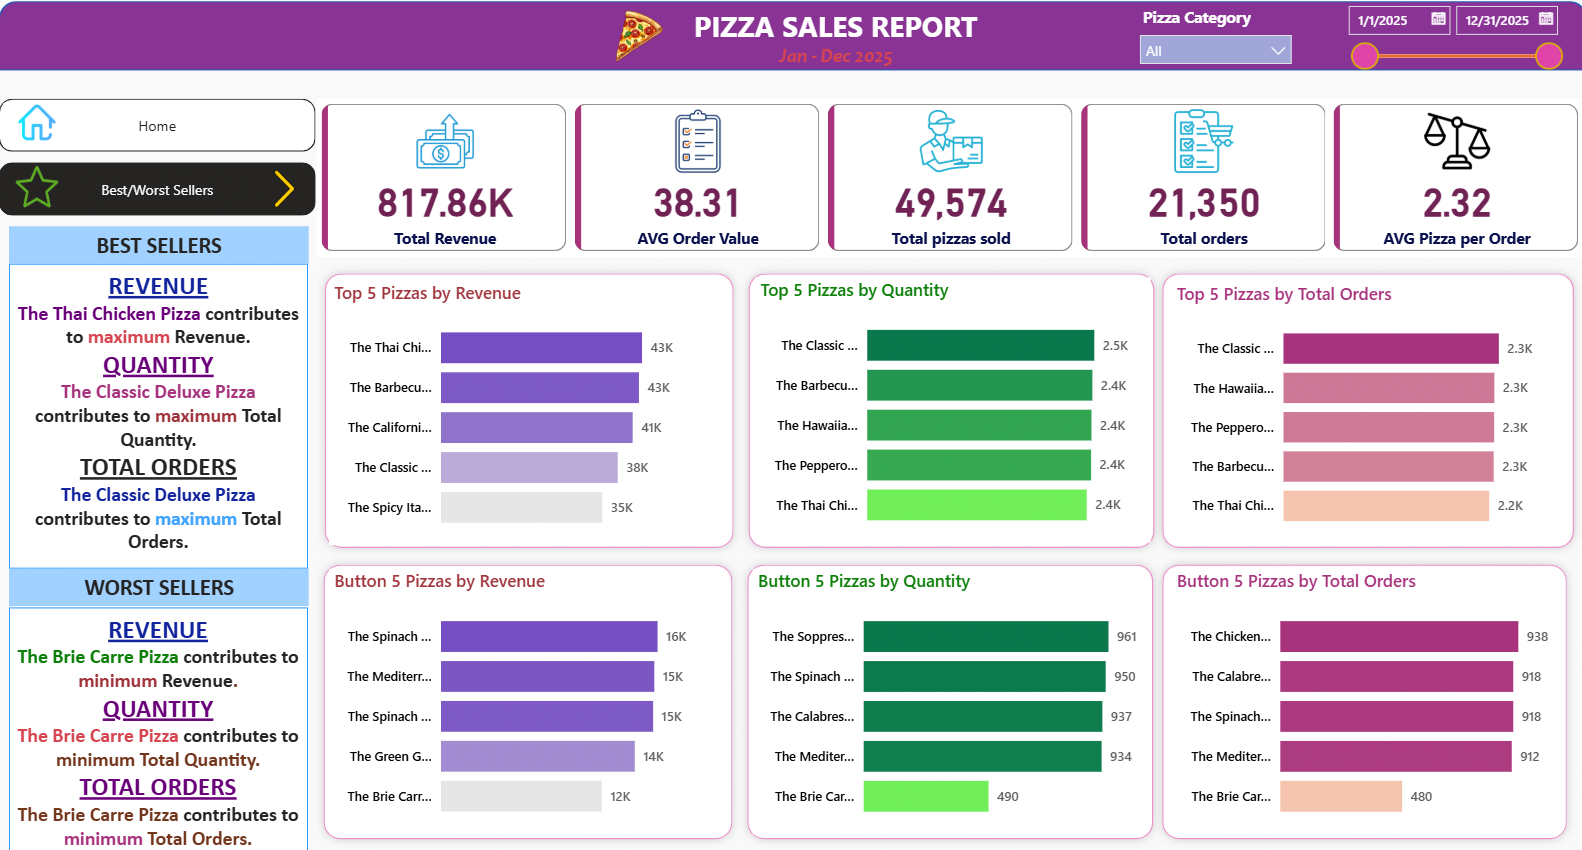

The dashboard page shown, as its layout file describes it:
{"tool":"powerbi","page":{"name":"Best/Worst Sellers","canvas":[1500,820],"ordinal":1},"visuals":[{"type":"cardVisual","fields":{"Data":["Measures_Created.Total Revenue","Measures_Created.AVG Order Value","Measures_Created.Total pizzas sold","Measures_Created.Total orders","Measures_Created.AVG Pizza per Order"]},"box":[299.8,98.1,1200.5,149.9],"z":0},{"type":"shape","box":[0,5.5,1500.3,65.4],"z":1000},{"type":"textbox","box":[642.5,6.2,296.2,77.5],"z":2000},{"type":"image","box":[565,6.2,77.5,67.5],"z":3000},{"type":"shape","box":[299.8,254.8,402,275.3],"z":4000},{"type":"textbox","box":[9.5,218.1,283.4,35.4],"z":14000},{"type":"textbox","box":[9.5,254.2,282.6,288.3],"z":15000},{"type":"textbox","box":[9.5,542.5,283.4,35.4],"z":16000},{"type":"textbox","box":[9.5,579.1,282.1,239.8],"z":17000},{"type":"slicer","fields":{"Values":["pizza_sales_f.pizza_category"]},"box":[1067,5.5,163.5,62.7],"z":18000},{"type":"slicer","fields":{"Values":["pizza_sales_f.order_date"]},"box":[1261.8,0,223.5,79],"z":19000},{"type":"shape","box":[700.4,254.8,399.3,275.3],"z":19001},{"type":"shape","box":[1091.5,254.8,404.7,275.3],"z":19002},{"type":"shape","box":[298.9,529.7,402,275.3],"z":19003},{"type":"shape","box":[699.5,529.7,399.3,275.3],"z":19004},{"type":"shape","box":[1091.5,530.1,397.9,275.3],"z":19005},{"type":"barChart","title":"Top 5 Pizzas by Revenue","fields":{"Category":["pizza_sales_f.pizza_name"],"Y":["Measures_Created.Total Revenue"]},"box":[312,269.8,373.4,250.7],"z":19006},{"type":"barChart","title":"Button 5 Pizzas by Revenue","fields":{"Category":["pizza_sales_f.pizza_name"],"Y":["Measures_Created.Total Revenue"]},"box":[312,542.3,373.4,250.7],"z":19007},{"type":"barChart","title":"Top 5 Pizzas by Quantity","fields":{"Category":["pizza_sales_f.pizza_name"],"Y":["Measures_Created.Total pizzas sold"]},"box":[714,266.9,373.4,250.7],"z":19008},{"type":"barChart","title":"Button 5 Pizzas by Quantity","fields":{"Category":["pizza_sales_f.pizza_name"],"Y":["Measures_Created.Total pizzas sold"]},"box":[712.4,541.9,368.2,250.9],"z":19009},{"type":"barChart","title":"Top 5 Pizzas by Total Orders","fields":{"Category":["pizza_sales_f.pizza_name"],"Y":["Measures_Created.Total orders"]},"box":[1108,270.2,373.1,247.6],"z":19010},{"type":"barChart","title":"Button 5 Pizzas by Total Orders","fields":{"Category":["pizza_sales_f.pizza_name"],"Y":["Measures_Created.Total orders"]},"box":[1108,541.9,361.8,250.9],"z":19011},{"type":"pageNavigator","box":[0,98.1,299.8,50.4],"z":19012},{"type":"pageNavigator","box":[0,158.1,299.8,50.4],"z":19013},{"type":"image","box":[239.8,160.8,60,45],"z":19014},{"type":"image","box":[9.5,98.1,53.1,45],"z":19015},{"type":"image","box":[9.5,155.3,53.1,50.4],"z":19016}]}

Visuals, with their boxes in screenshot pixels (x1, y1, x2, y2), scaled from the page's 1500x820 canvas onto the 1582x850 screenshot:
cardVisual - Measures_Created.Total Revenue x Measures_Created.AVG Order Value: pyautogui.locateOnScreen(316, 102, 1581, 257)
shape: pyautogui.locateOnScreen(0, 6, 1581, 73)
textbox: pyautogui.locateOnScreen(678, 6, 990, 87)
image: pyautogui.locateOnScreen(596, 6, 678, 76)
shape: pyautogui.locateOnScreen(316, 264, 740, 549)
textbox: pyautogui.locateOnScreen(10, 226, 309, 263)
textbox: pyautogui.locateOnScreen(10, 264, 308, 562)
textbox: pyautogui.locateOnScreen(10, 562, 309, 599)
textbox: pyautogui.locateOnScreen(10, 600, 308, 849)
slicer - pizza_sales_f.pizza_category: pyautogui.locateOnScreen(1125, 6, 1298, 71)
slicer - pizza_sales_f.order_date: pyautogui.locateOnScreen(1331, 0, 1566, 82)
shape: pyautogui.locateOnScreen(739, 264, 1160, 549)
shape: pyautogui.locateOnScreen(1151, 264, 1578, 549)
shape: pyautogui.locateOnScreen(315, 549, 739, 834)
shape: pyautogui.locateOnScreen(738, 549, 1159, 834)
shape: pyautogui.locateOnScreen(1151, 549, 1571, 835)
"Top 5 Pizzas by Revenue" barChart: pyautogui.locateOnScreen(329, 280, 723, 540)
"Button 5 Pizzas by Revenue" barChart: pyautogui.locateOnScreen(329, 562, 723, 822)
"Top 5 Pizzas by Quantity" barChart: pyautogui.locateOnScreen(753, 277, 1147, 537)
"Button 5 Pizzas by Quantity" barChart: pyautogui.locateOnScreen(751, 562, 1140, 822)
"Top 5 Pizzas by Total Orders" barChart: pyautogui.locateOnScreen(1169, 280, 1562, 537)
"Button 5 Pizzas by Total Orders" barChart: pyautogui.locateOnScreen(1169, 562, 1550, 822)
pageNavigator: pyautogui.locateOnScreen(0, 102, 316, 154)
pageNavigator: pyautogui.locateOnScreen(0, 164, 316, 216)
image: pyautogui.locateOnScreen(253, 167, 316, 213)
image: pyautogui.locateOnScreen(10, 102, 66, 148)
image: pyautogui.locateOnScreen(10, 161, 66, 213)
